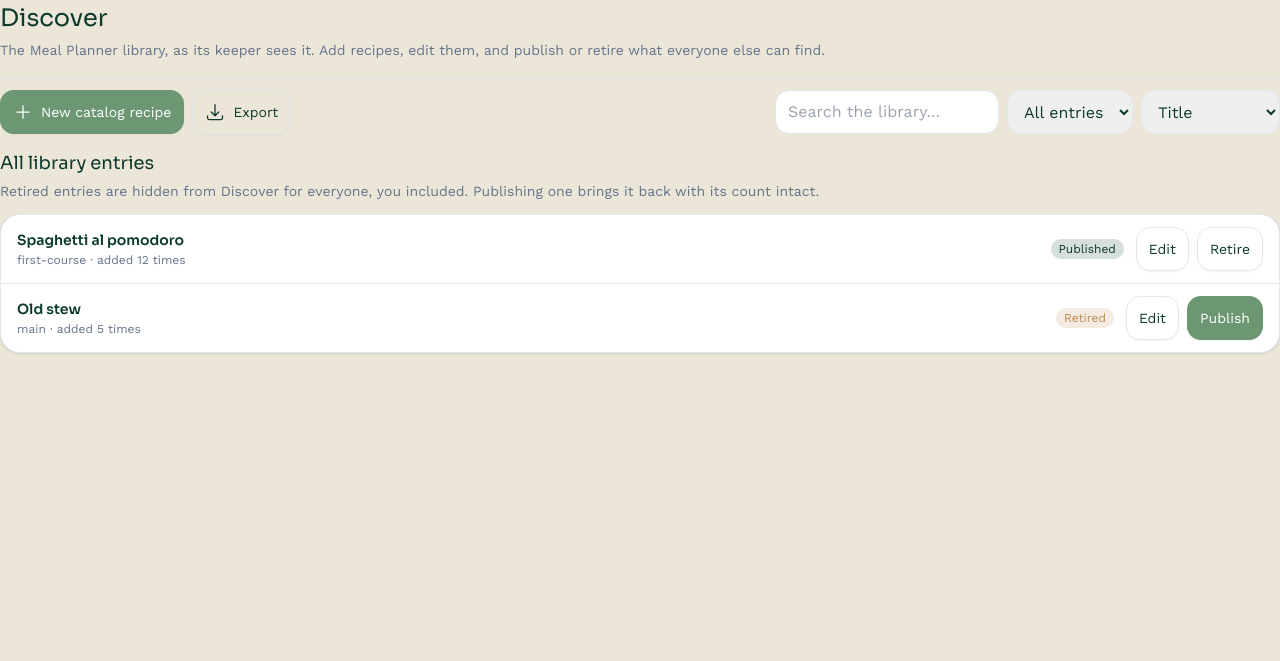
Test: "New catalog recipe" opens the form on the library sources, with no pantry writes
Expected: the text "Spaghetti al pomodoro" is shown, [17,230,184,248]
Click the button "New catalog recipe" at (92, 112), box [0,90,184,134]
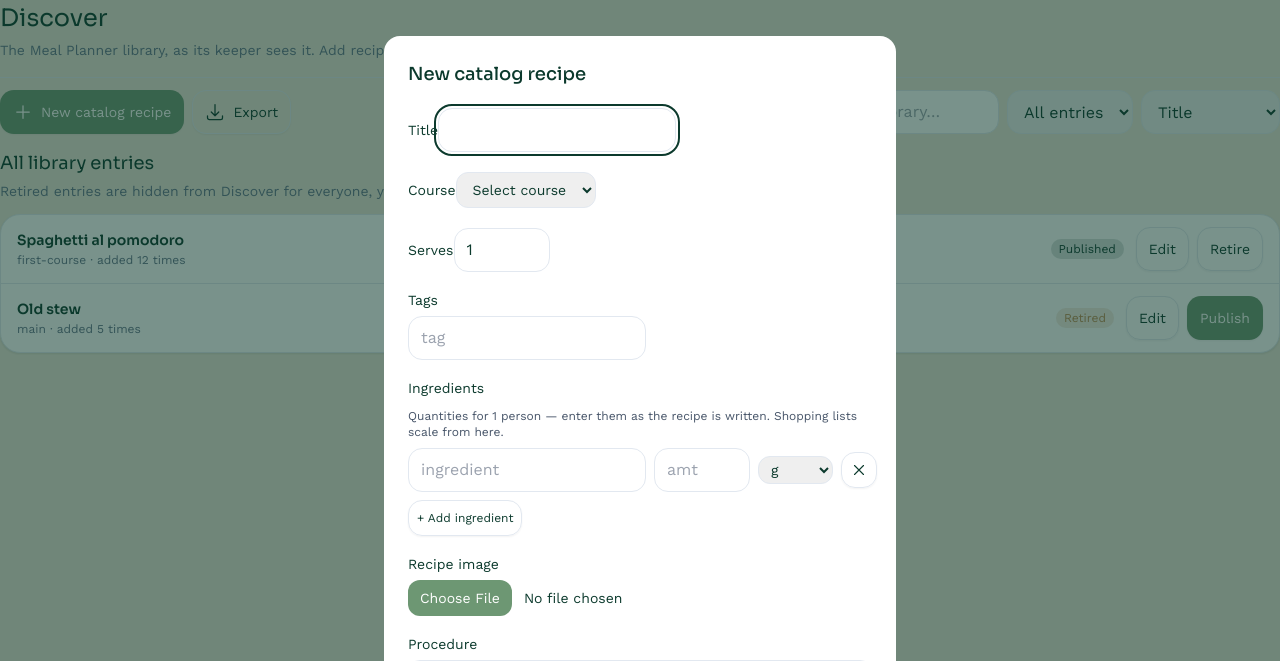
Expected: the heading "New catalog recipe" is shown, [408,63,586,85]
Focus the field with placeholder "ingredient" at (527, 470), box [408,448,646,492]
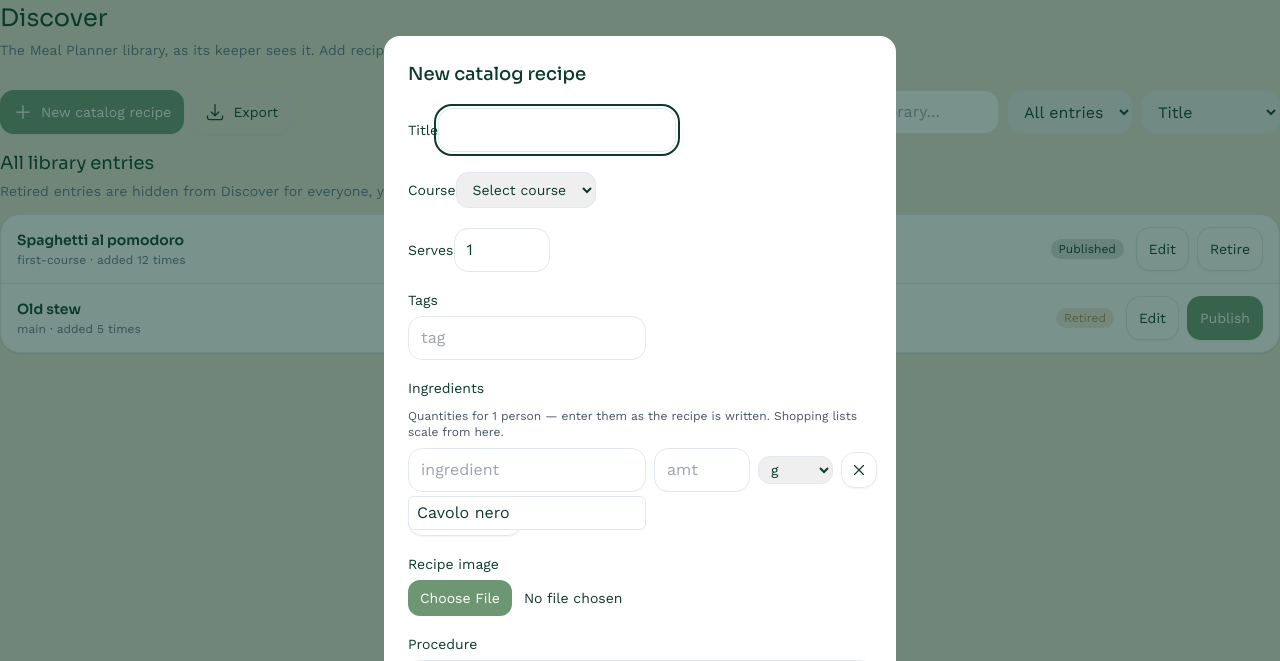
Expected: the text "Cavolo nero" is shown, [417,503,510,522]
